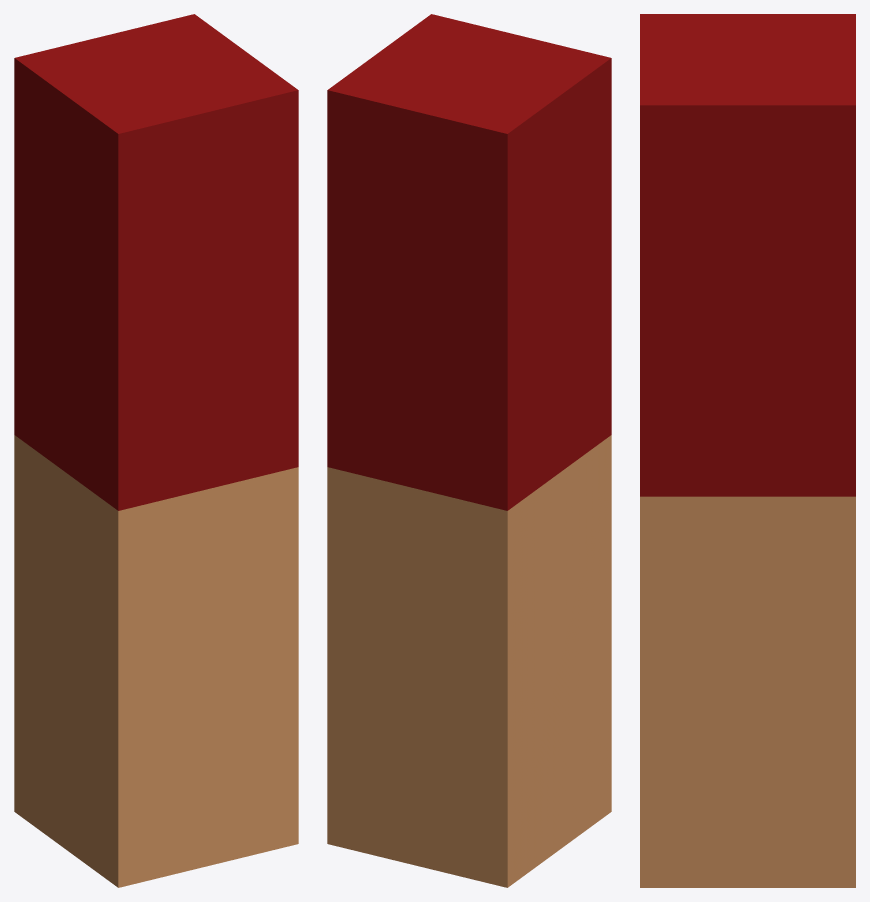
File: Enemy-2.obj
The picture shows the model from 3 angles, left to right: view 1: azimuth 30°, elevation 25°; view 2: azimuth 150°, elevation 25°; view 3: azimuth 270°, elevation 25°; orthographic projection. The views are drawn at different scales.
Visible parts, largest first — view 1: Enemy-2; view 2: Enemy-2; view 3: Enemy-2.
Part boxes in pixels (x1=…): Enemy-2: x1=14, y1=14, x2=298, y2=887; Enemy-2: x1=327, y1=14, x2=611, y2=887; Enemy-2: x1=640, y1=14, x2=855, y2=887.
Bounding box in the file's own units: 2 × 8 × 2.
1 material, 1 textured.
